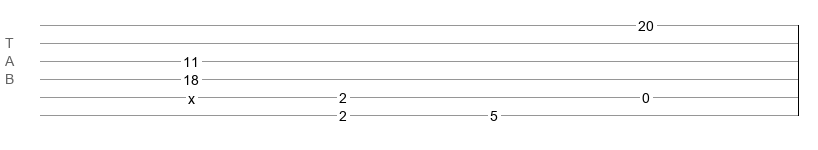0: (642, 90, 650, 100)
11: (183, 54, 199, 64)
18: (183, 72, 199, 82)
2: (339, 108, 347, 118), (339, 90, 347, 100)
20: (638, 18, 654, 28)
5: (490, 108, 498, 118)
x: (188, 91, 195, 99)
